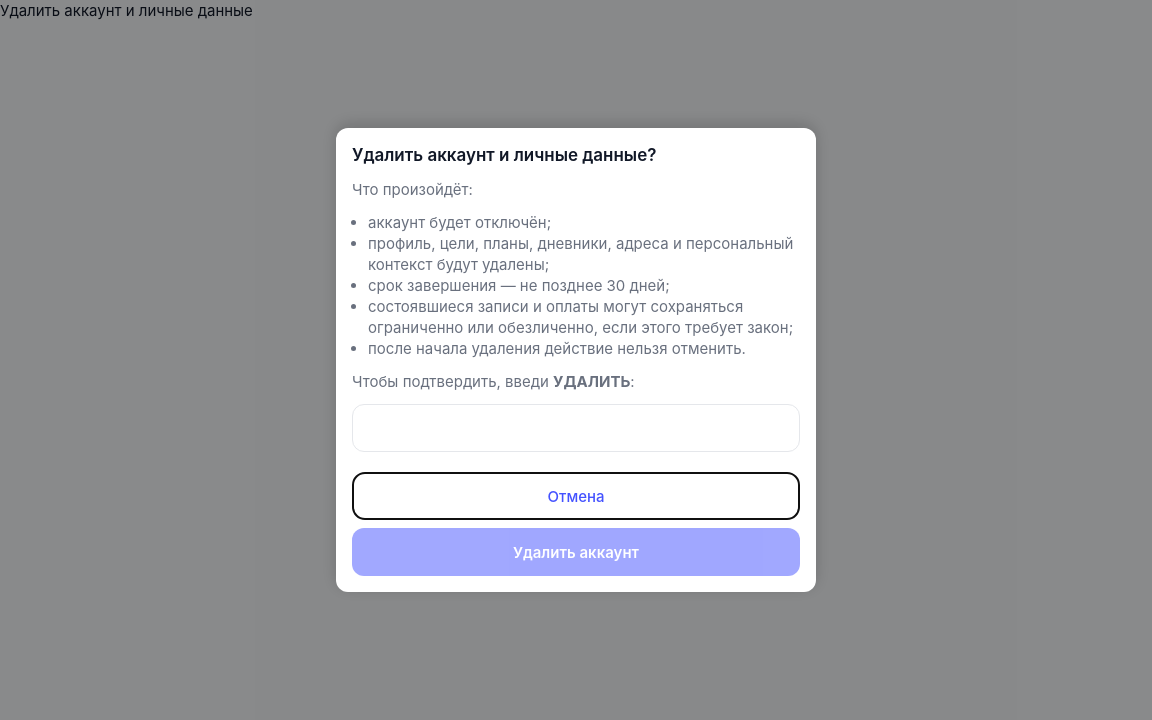
it: PersonalDataDeleteSheet › shows «принято» with the exact deadline date, request id and status
This screenshot has width=1152, height=720.
Type "УДАЛИТЬ" into the field labelled "Чтобы подтвердить, введи УДАЛИТЬ:" at (576, 428), box [352,404,800,452]
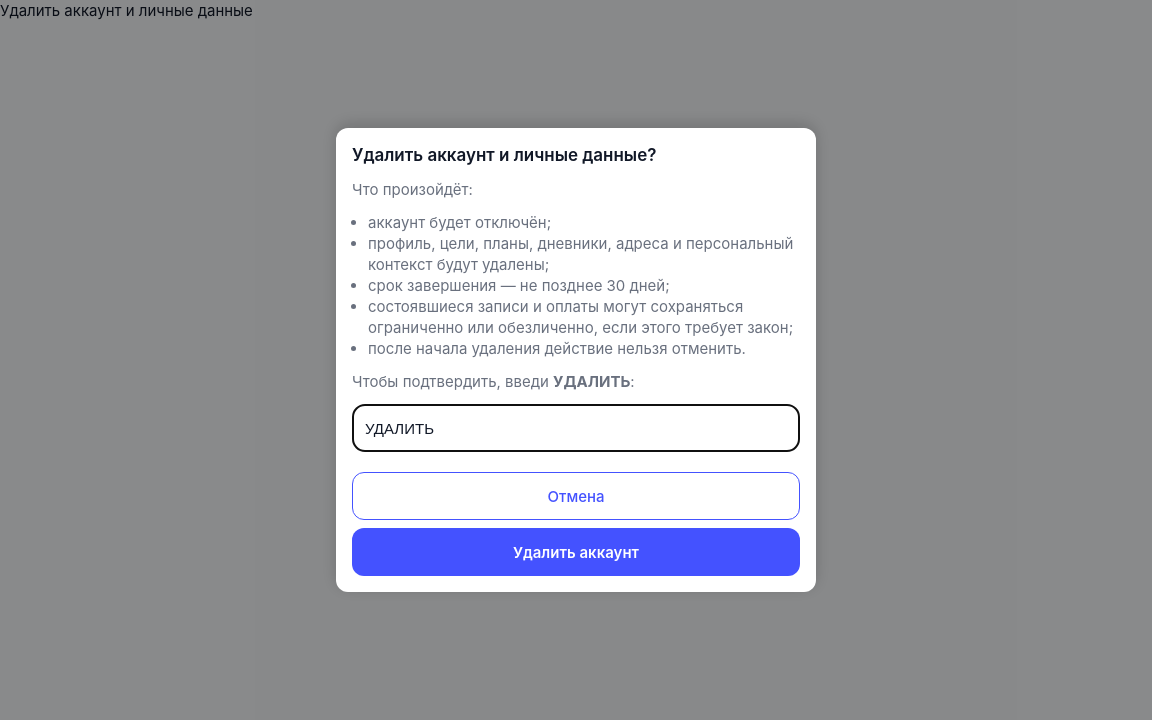
Click the button "Удалить аккаунт" at (576, 552), box [352,528,800,576]
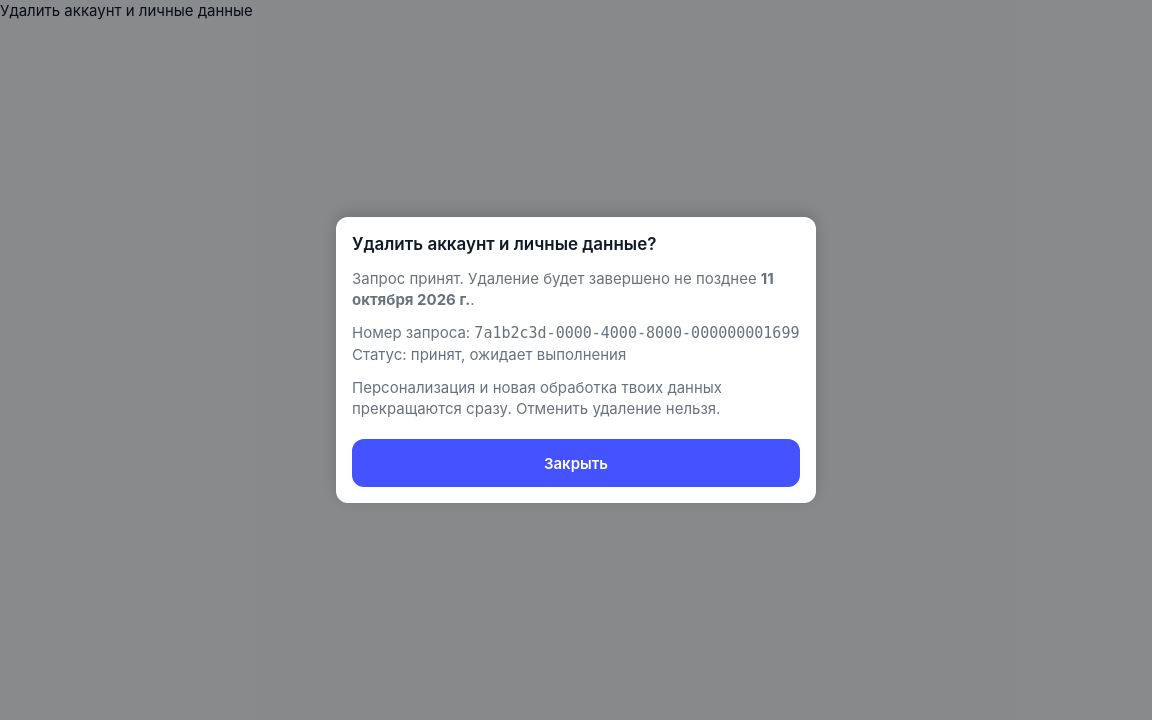
Expected: the text "Запрос принят." is shown, [352,269,464,288]
Expected: the text "11 октября 2026 г." is shown, [352,269,774,309]
Expected: the text "7a1b2c3d-0000-4000-8000-000000001699" is shown, [474,324,800,342]
